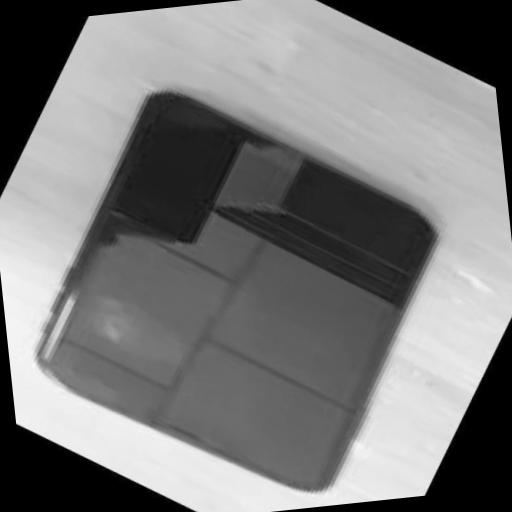phone: (36, 93, 435, 490)
